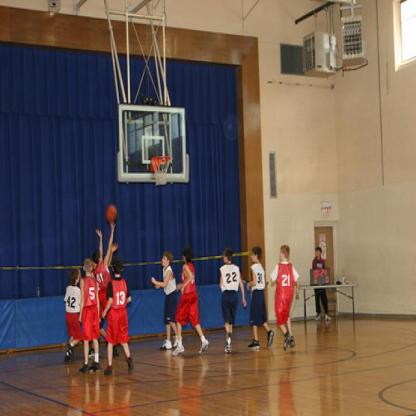basketball: (106, 206, 118, 221)
